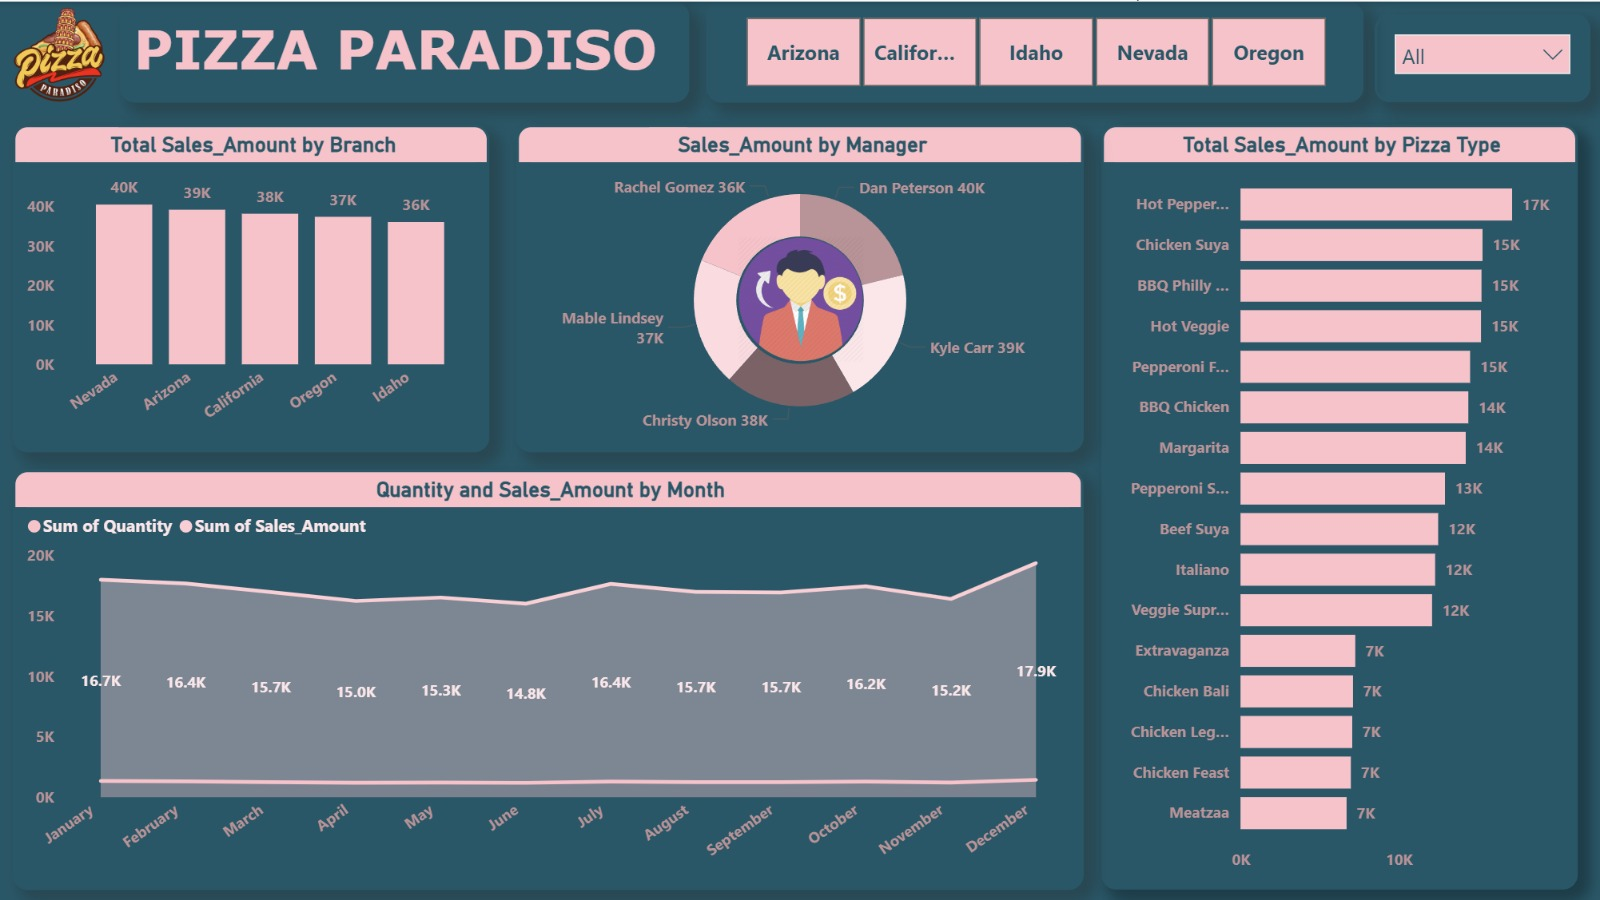

What the dashboard file says about the page in this screenshot:
{"tool":"powerbi","page":{"name":"Page 1","canvas":[1280,720],"ordinal":0},"visuals":[{"type":"textbox","box":[96.9,0,453.9,80.3],"z":0},{"type":"image","box":[0,2.5,96.9,77.8],"z":3},{"type":"clusteredColumnChart","fields":{"Category":["Pizza Paradiso.Branch"],"Y":["Pizza Paradiso.Sales_Amount"]},"box":[11.5,98.2,379.9,261.4],"z":4},{"type":"clusteredBarChart","title":"Total Sales_Amount by Pizza Type","fields":{"Category":["Pizza Paradiso.Pizza Type"],"Y":["Pizza Paradiso.Sales_Amount"]},"box":[879.7,98.2,379.9,610.7],"z":5},{"type":"donutChart","title":"Sales_Amount by Manager","fields":{"Category":["Pizza Paradiso.Manager"],"Y":["Pizza Paradiso.Sales_Amount"]},"box":[413.1,98.2,452.6,261.4],"z":6},{"type":"stackedAreaChart","title":" Quantity and Sales_Amount by Month","fields":{"Category":["Pizza Paradiso.Date.Variation.Date Hierarchy.Month"],"Y":["Pizza Paradiso.Quantity","Pizza Paradiso.Sales_Amount"]},"box":[11.5,373.5,854.2,335.3],"z":7},{"type":"slicer","fields":{"Values":["Pizza Paradiso.Branch"]},"box":[564.8,0,524,80.3],"z":8},{"type":"slicer","fields":{"Values":["Pizza Paradiso.Pizza Type"]},"box":[1097.7,10.2,172.1,70.1],"z":9},{"type":"image","box":[589,187.4,102,100.7],"z":10}]}

Visuals, with their boxes in screenshot pixels (x1, y1, x2, y2), scaled from the page's 1280x720 canvas onto the 1600x900 screenshot:
textbox: box=[121, 0, 688, 100]
image: box=[0, 3, 121, 100]
clusteredColumnChart - Pizza Paradiso.Branch x Pizza Paradiso.Sales_Amount: box=[14, 123, 489, 449]
"Total Sales_Amount by Pizza Type" clusteredBarChart: box=[1100, 123, 1574, 886]
"Sales_Amount by Manager" donutChart: box=[516, 123, 1082, 449]
" Quantity and Sales_Amount by Month" stackedAreaChart: box=[14, 467, 1082, 886]
slicer - Pizza Paradiso.Branch: box=[706, 0, 1361, 100]
slicer - Pizza Paradiso.Pizza Type: box=[1372, 13, 1587, 100]
image: box=[736, 234, 864, 360]
